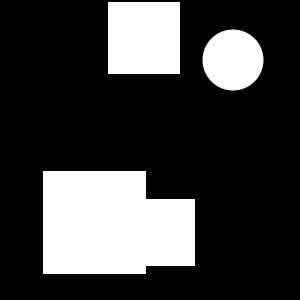circle: (43, 171, 146, 274), (108, 2, 180, 74), (128, 199, 195, 266)
rectangle: (202, 30, 264, 91)
